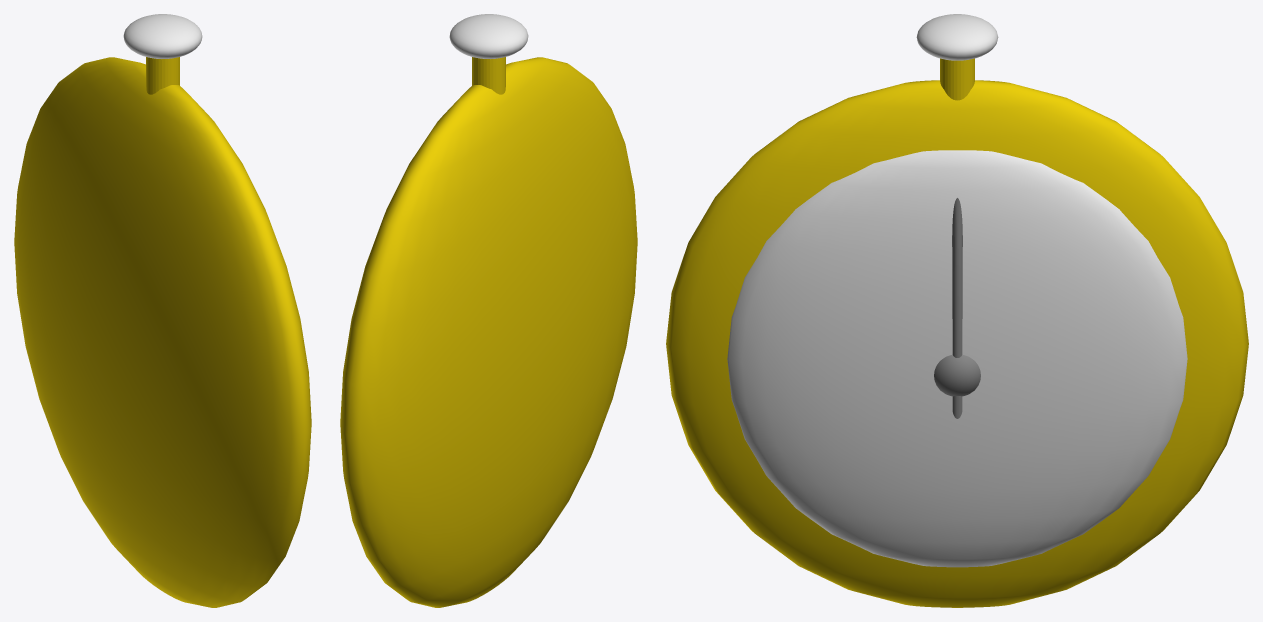
Rendered from pocketwatch.fbx.
3 views of the same model, side by side, from view 1: azimuth 30°, elevation 25°; view 2: azimuth 150°, elevation 25°; view 3: azimuth 270°, elevation 25° (orthographic). The views are drawn at different scales.
Visible parts, largest first — view 1: 球, 球.001, 円柱; view 2: 球, 球.001, 円柱; view 3: 球.002, 球, 球.001, 円柱.001, 球.003, 円柱.
Boxes of the visible parts, x1=… form: 球: x1=14, y1=57, x2=311, y2=607; 球.001: x1=123, y1=14, x2=202, y2=58; 円柱: x1=146, y1=57, x2=179, y2=94; 球: x1=340, y1=57, x2=637, y2=607; 球.001: x1=449, y1=14, x2=528, y2=58; 円柱: x1=472, y1=57, x2=505, y2=94; 球.002: x1=727, y1=150, x2=1187, y2=567; 球: x1=666, y1=80, x2=1248, y2=607; 球.001: x1=916, y1=14, x2=998, y2=60; 円柱.001: x1=952, y1=198, x2=962, y2=418; 球.003: x1=934, y1=355, x2=980, y2=396; 円柱: x1=940, y1=58, x2=974, y2=100.
Bounding box in the file's own units: 25 × 111 × 100.
